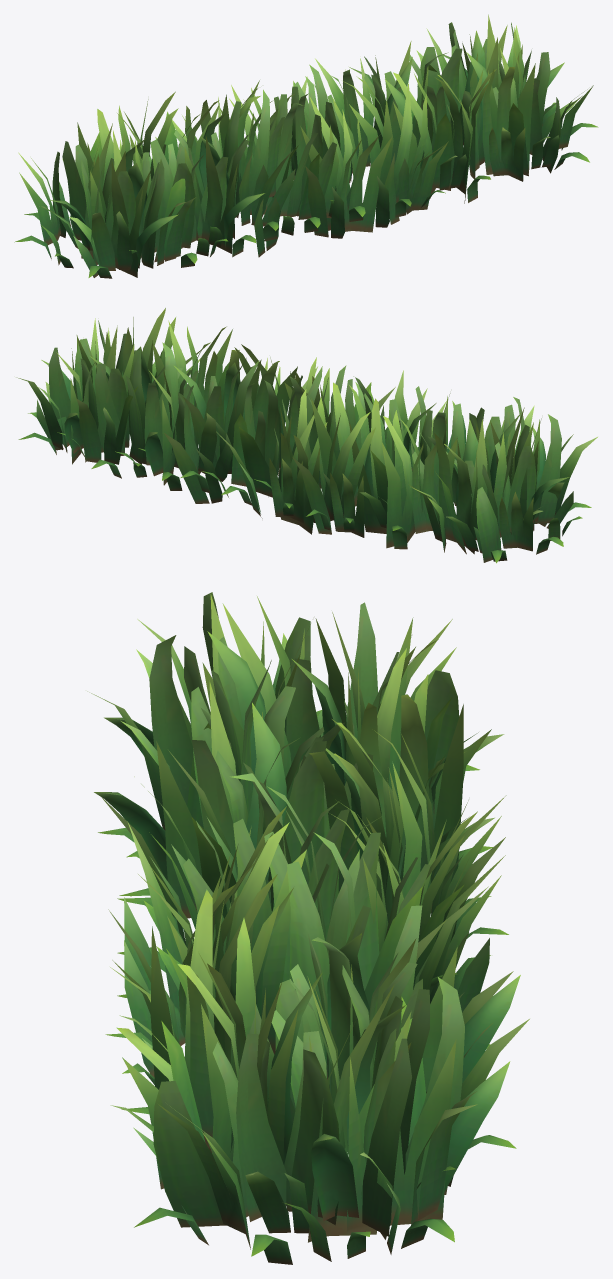
The model's file is pref_sm_beach_techgrass_alpha_yellow01_lv2.fbx.
The picture shows the model from 3 angles, top to bottom: view 1: azimuth 30°, elevation 25°; view 2: azimuth 150°, elevation 25°; view 3: azimuth 270°, elevation 25°; orthographic projection. The views are drawn at different scales.
Parts seen in each view (by area): view 1: pref_sm_beach_techgrass_alpha_yellow01_lv2; view 2: pref_sm_beach_techgrass_alpha_yellow01_lv2; view 3: pref_sm_beach_techgrass_alpha_yellow01_lv2.
Part boxes in pixels (<box>): pref_sm_beach_techgrass_alpha_yellow01_lv2: <box>14,14,598,278</box>; pref_sm_beach_techgrass_alpha_yellow01_lv2: <box>16,308,597,563</box>; pref_sm_beach_techgrass_alpha_yellow01_lv2: <box>87,592,529,1264</box>.
Size of the model in its own units: 8.33 by 2.09 by 2.97.
